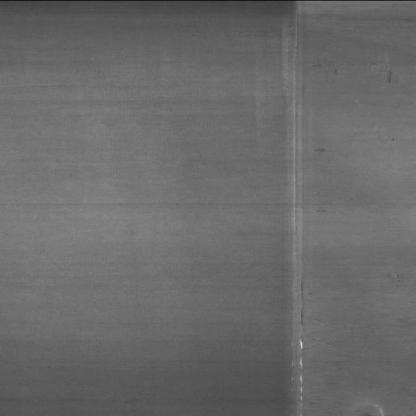welding_line: (279, 0, 320, 415)
